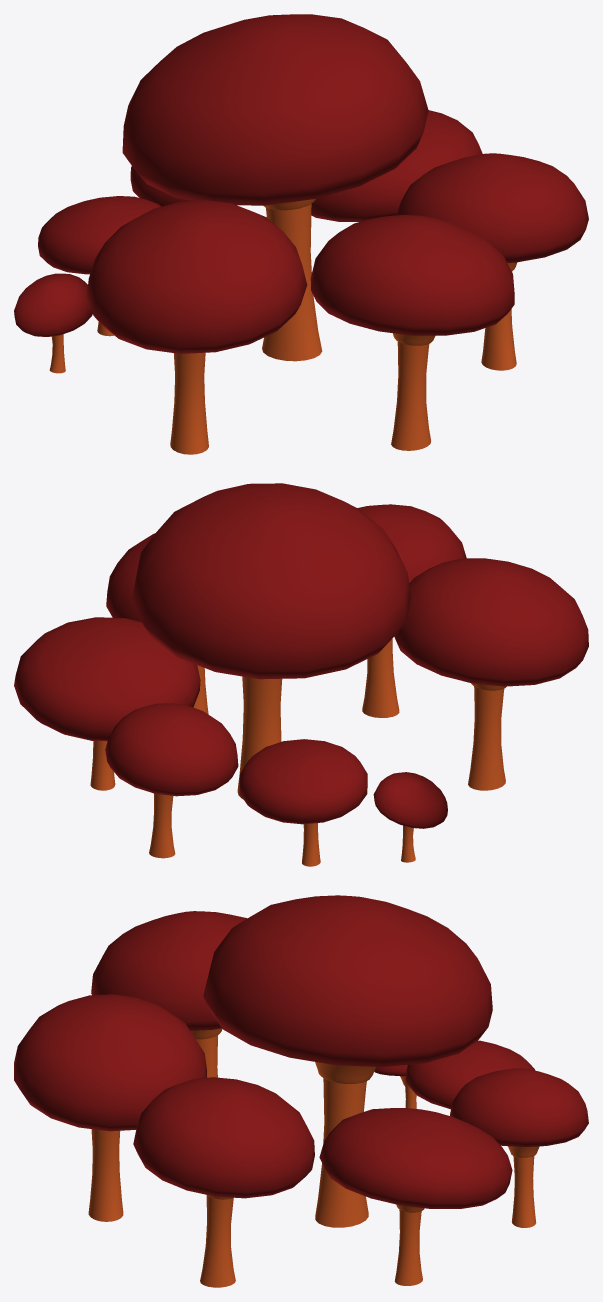
The model's file is Groupe de champi séparé.fbx.
3 renders of one model, top to bottom at view 1: azimuth 30°, elevation 25°; view 2: azimuth 150°, elevation 25°; view 3: azimuth 270°, elevation 25°, orthographic. The views are drawn at different scales.
Parts seen in each view (by area): view 1: Group001; view 2: Group001; view 3: Group001.
Boxes of the visible parts, x1,y1,x2,y2 form: Group001: (14,14,588,454); Group001: (14,483,588,866); Group001: (14,895,588,1287).
Size of the model in its own units: 1050 by 662 by 1134.
